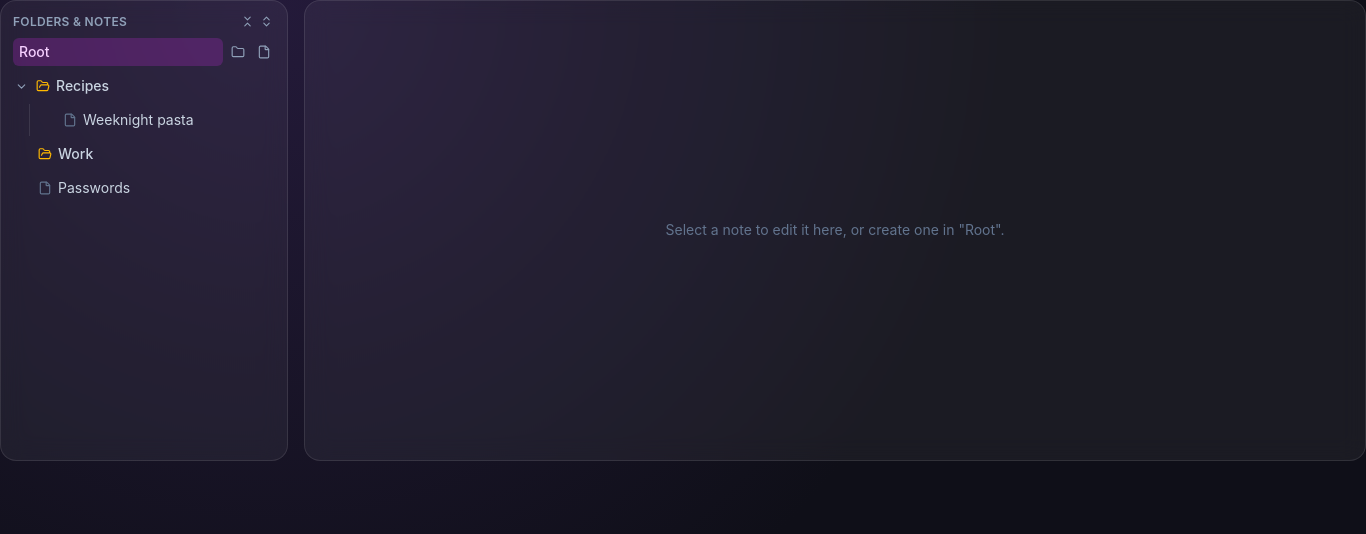
Scenario: NotesView › creates a folder at the root via the + Folder button
Expected: the button "Root" is shown, [13,38,223,66]
Click the button named "New folder".
click(238, 52)  # box [227,41,249,63]
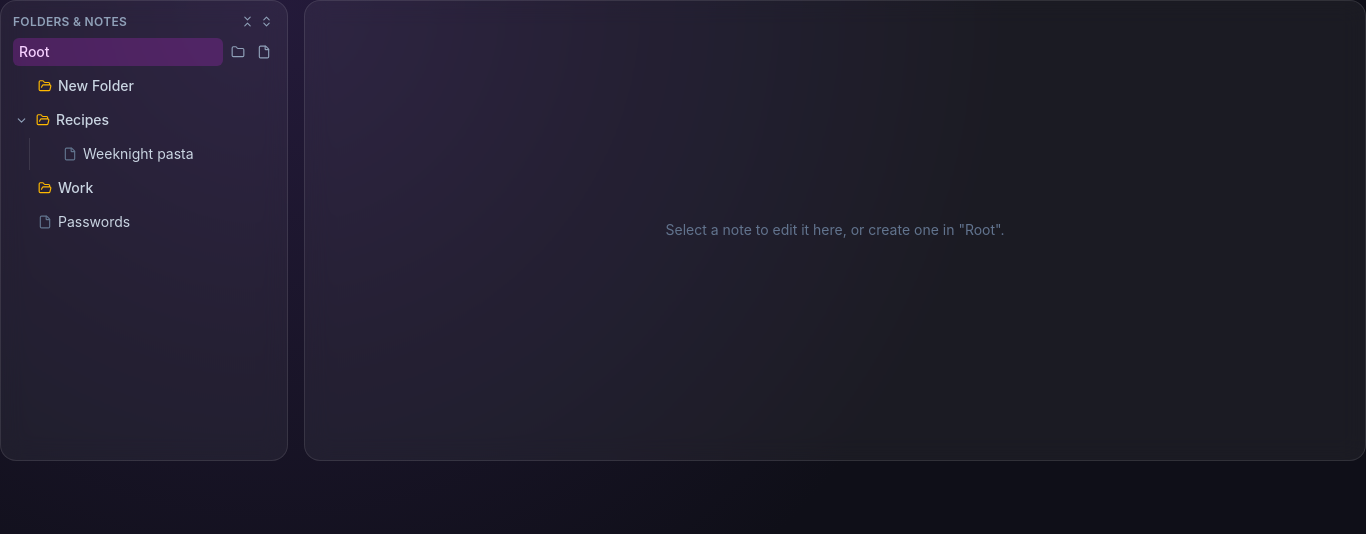
Now the button "New Folder" is shown, box [58,74,245,98]
